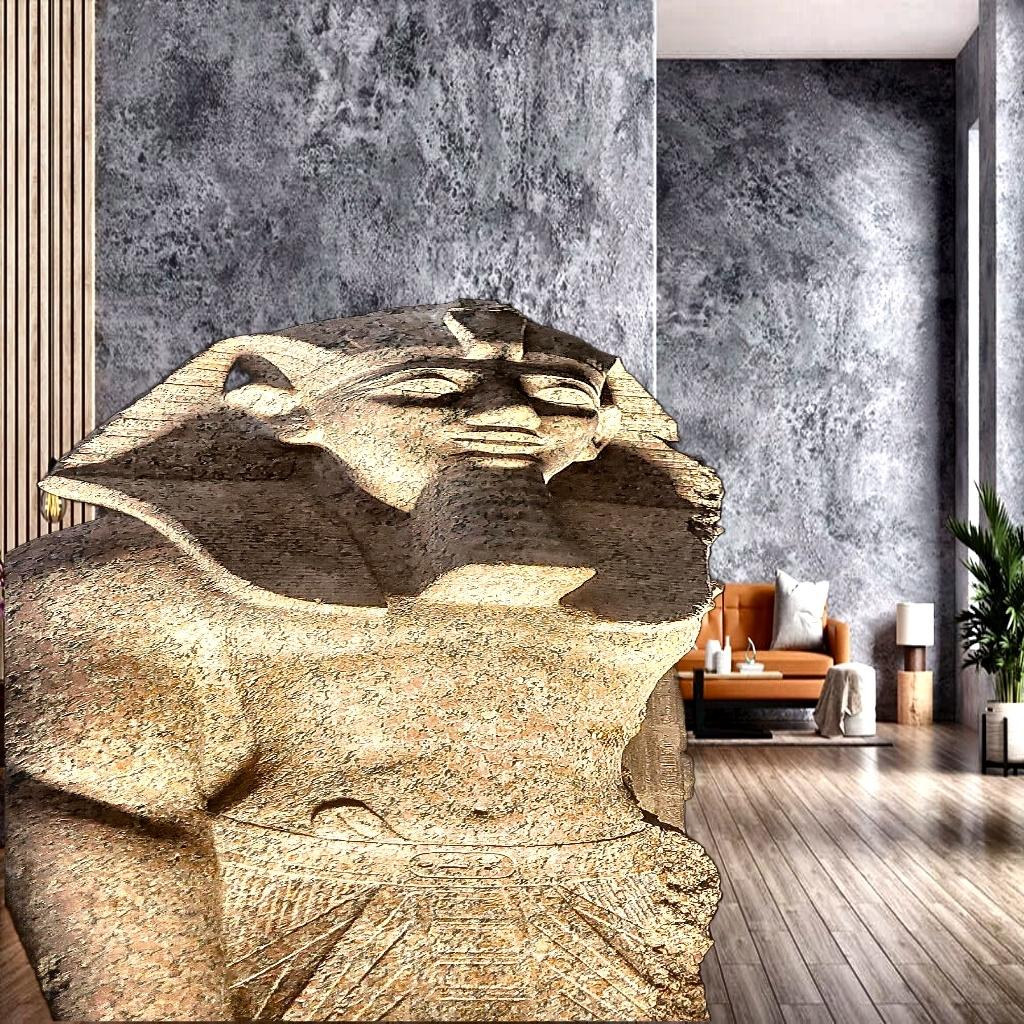Standing Statue of Thutmose III: (4, 296, 736, 1022)
